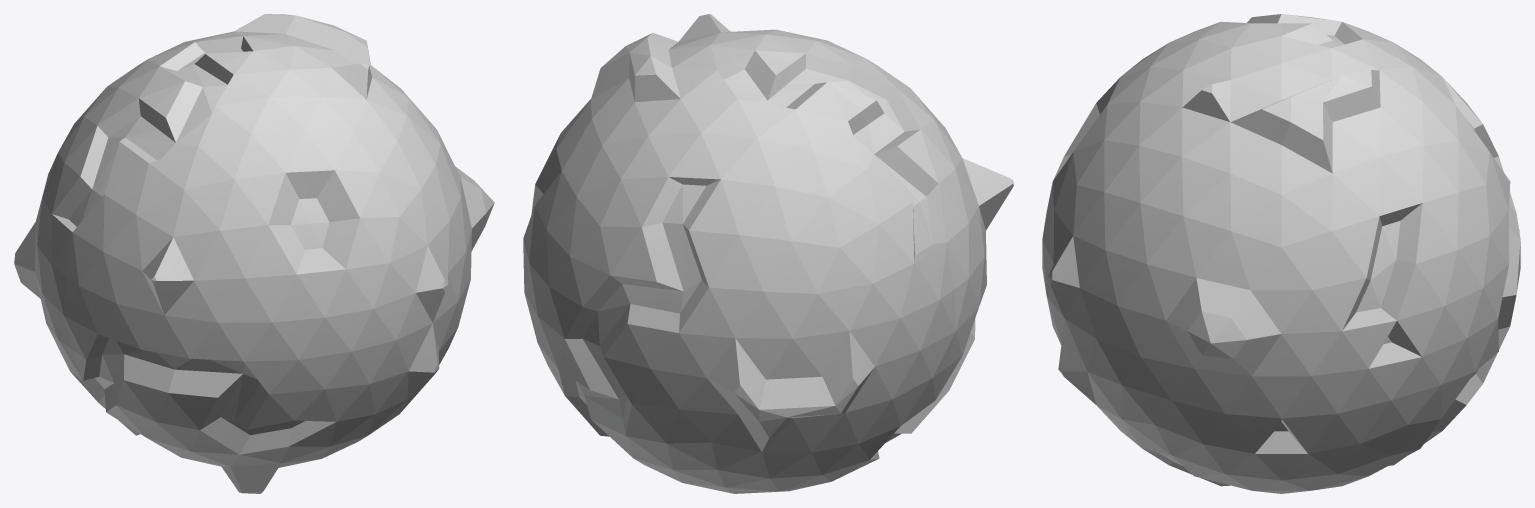
The model's file is Liquid_planet_stage1.FBX.
3 views of the same model, side by side, from view 1: azimuth 30°, elevation 25°; view 2: azimuth 150°, elevation 25°; view 3: azimuth 270°, elevation 25° (orthographic). The views are drawn at different scales.
Visible parts, largest first — view 1: Liquid_Metal_Planet_Stage_1; view 2: Liquid_Metal_Planet_Stage_1; view 3: Liquid_Metal_Planet_Stage_1.
Boxes of the visible parts, x1,y1,x2,y2 form: Liquid_Metal_Planet_Stage_1: (14,14,494,493); Liquid_Metal_Planet_Stage_1: (523,14,1013,493); Liquid_Metal_Planet_Stage_1: (1042,14,1520,493).
Size of the model in its own units: 105 by 100 by 99.39.
1 material, 1 textured.
